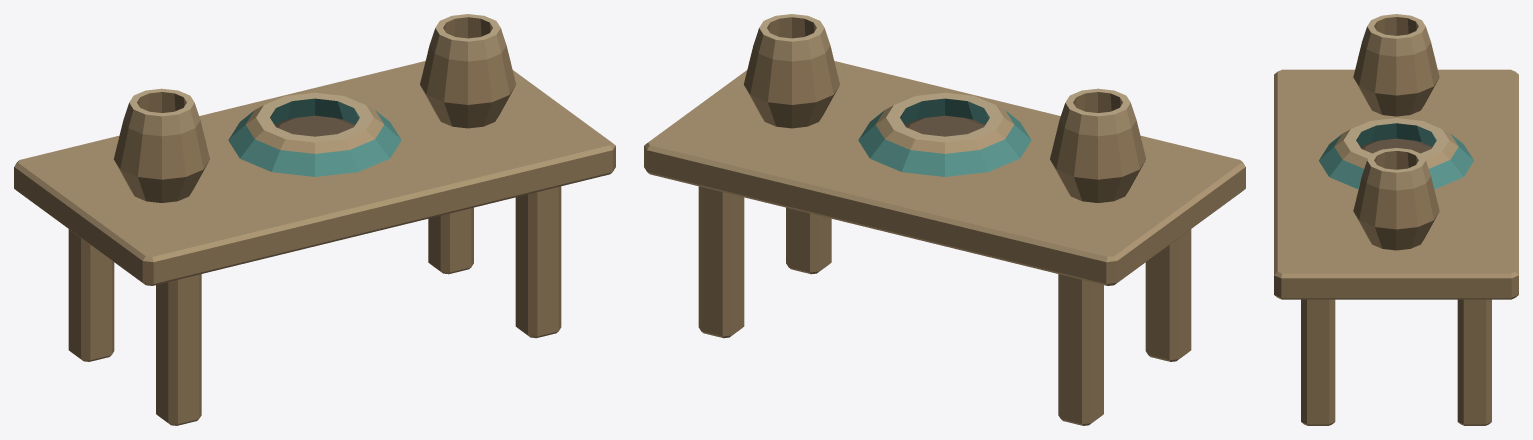
The model's file is offering-table.glb.
3 renders of one model, left to right at view 1: azimuth 30°, elevation 25°; view 2: azimuth 150°, elevation 25°; view 3: azimuth 270°, elevation 25°, orthographic. The views are drawn at different scales.
Parts seen in each view (by area): view 1: offering-table__body; view 2: offering-table__body; view 3: offering-table__body.
Boxes of the visible parts, x1=… form: offering-table__body: x1=14, y1=14, x2=615, y2=425; offering-table__body: x1=644, y1=14, x2=1245, y2=425; offering-table__body: x1=1274, y1=14, x2=1518, y2=425.
Size of the model in its own units: 1.7 by 0.95 by 0.85.
